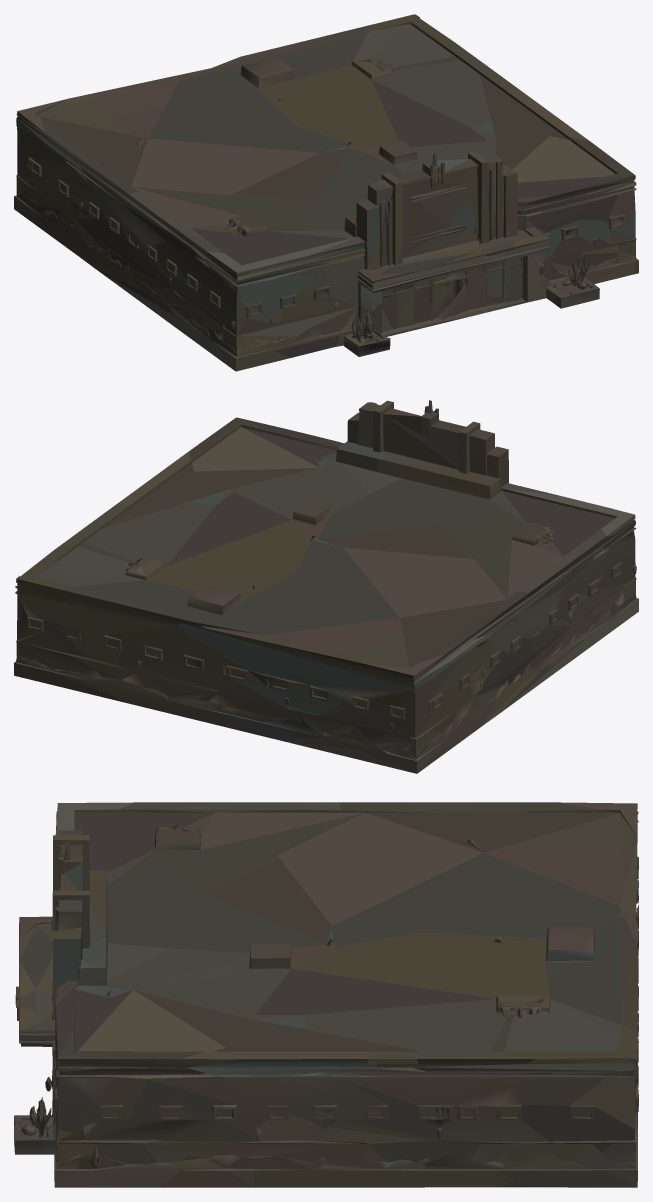
The model's file is arcade.glb.
3 renders of one model, top to bottom at view 1: azimuth 30°, elevation 25°; view 2: azimuth 150°, elevation 25°; view 3: azimuth 270°, elevation 25°, orthographic. The views are drawn at different scales.
Parts seen in each view (by area): view 1: Mesh_0; view 2: Mesh_0; view 3: Mesh_0.
Boxes of the visible parts, x1,y1,x2,y2 form: Mesh_0: (14,14,638,371); Mesh_0: (14,400,638,773); Mesh_0: (14,802,638,1187).
Size of the model in its own units: 1.88 by 0.7439 by 1.9.
1 material, 1 textured.
